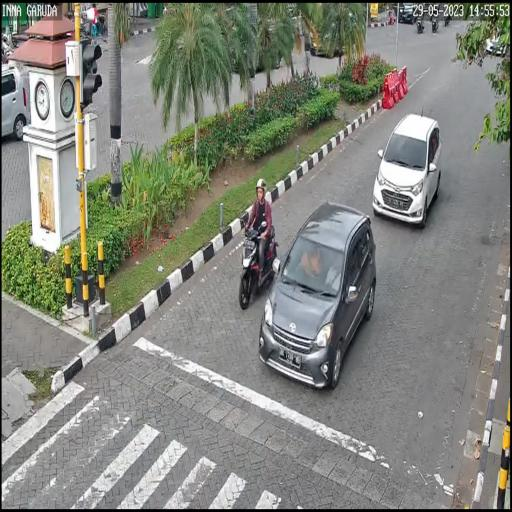mobil: (262, 206, 377, 382), (375, 109, 440, 226)
motor: (239, 220, 276, 310)
